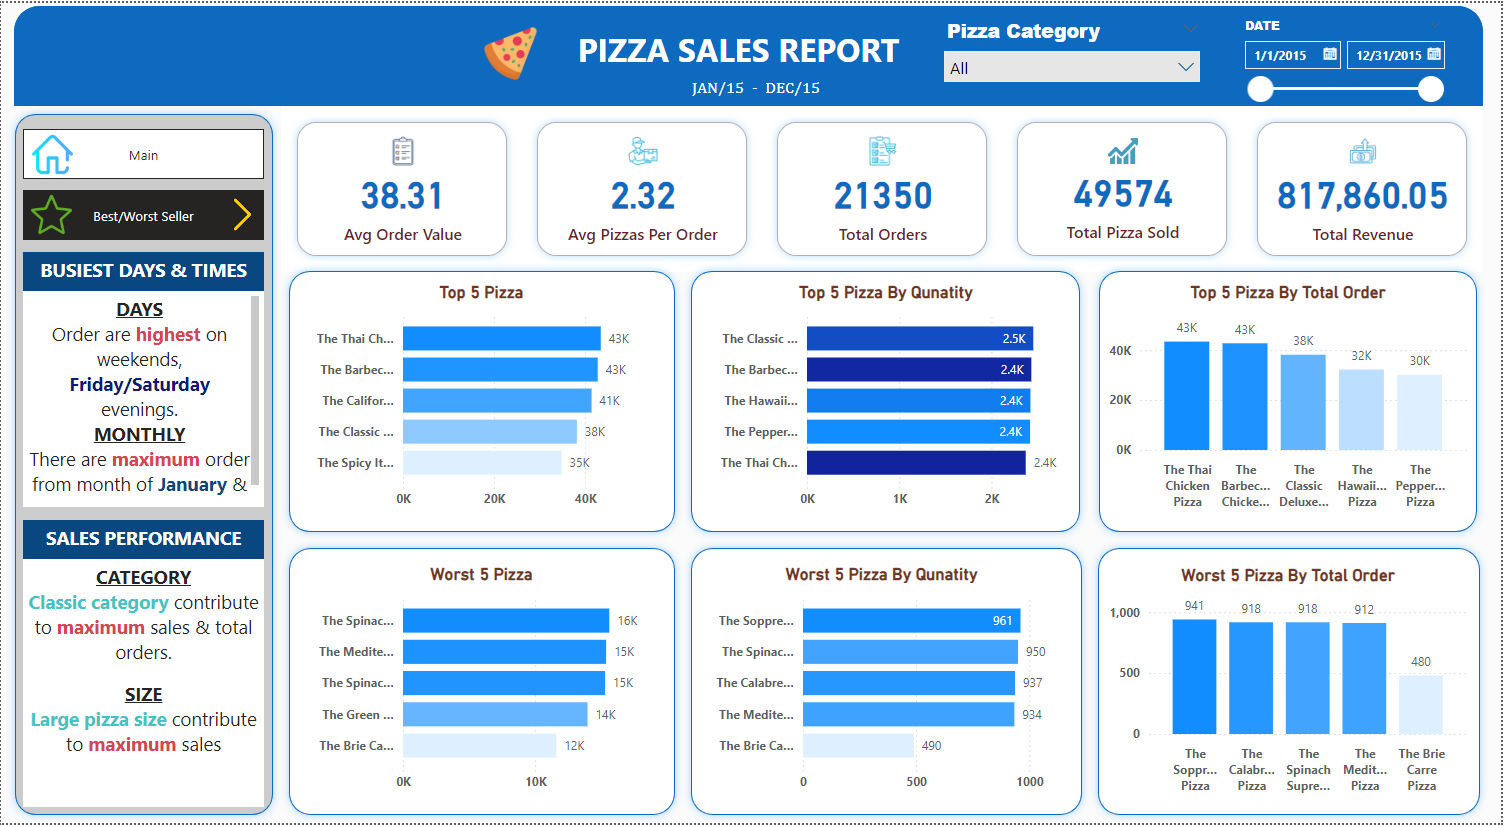

The dashboard page shown, as its layout file describes it:
{"tool":"powerbi","page":{"name":"Best/Worst Seller","canvas":[1500,820],"ordinal":1},"visuals":[{"type":"cardVisual","fields":{"Data":["pizza_sales.Avg Order Value","pizza_sales.Avg Pizzas Per Order","pizza_sales.Total Orders","pizza_sales.Total Pizza Sold","pizza_sales.Total Revenue"]},"box":[280,103.3,1202.2,165.6],"z":0},{"type":"shape","box":[13.3,3.3,1468.9,100],"z":1000},{"type":"textbox","box":[552.2,18.9,371.1,56.7],"z":2000},{"type":"textbox","box":[671.1,70,167.8,30],"z":3000},{"type":"image","box":[465.6,17.8,86.7,65.6],"z":4000},{"type":"shape","box":[280,536.7,402.2,283.3],"z":9000},{"type":"shape","box":[682.2,536.7,406.7,283.3],"z":10000},{"type":"shape","box":[1088.9,536.7,397.8,283.3],"z":11000},{"type":"shape","box":[5.6,103.3,274.4,716.7],"z":15000},{"type":"textbox","box":[22.2,248.9,241.1,38.9],"z":16000},{"type":"textbox","box":[22.2,287.8,241.1,216.7],"z":17000},{"type":"textbox","box":[22.2,516.7,241.1,38.9],"z":18000},{"type":"textbox","box":[22.2,555.6,241.1,248.9],"z":19000},{"type":"slicer","fields":{"Values":["pizza_sales.pizza_category"]},"box":[933.3,8.9,275.6,76.7],"z":20000},{"type":"slicer","fields":{"Values":["pizza_sales.order_date"]},"box":[1231.1,8.9,220,94.4],"z":21000},{"type":"shape","box":[280,260,402.2,276.7],"z":21001},{"type":"shape","box":[1090,260,394.4,276.7],"z":21003},{"type":"shape","box":[682.2,260,404.4,276.7],"z":21004},{"type":"barChart","title":"Top 5 Pizza","fields":{"Category":["pizza_sales.pizza_name"],"Y":["pizza_sales.Total Revenue"]},"box":[296.7,278.9,367.8,235.6],"z":21005},{"type":"barChart","title":"Worst 5 Pizza","fields":{"Category":["pizza_sales.pizza_name"],"Y":["pizza_sales.Total Revenue"]},"box":[296.7,561.1,367.8,235.6],"z":21006},{"type":"barChart","title":"Top 5 Pizza By Qunatity","fields":{"Category":["pizza_sales.pizza_name"],"Y":["Sum(pizza_sales.quantity)"]},"box":[701.1,278.9,367.8,235.6],"z":21007},{"type":"pageNavigator","box":[22.2,125.6,241.1,50],"z":21008},{"type":"pageNavigator","box":[22.2,186.7,241.1,50],"z":21009},{"type":"image","box":[220,185.6,43.3,51.1],"z":21010},{"type":"image","box":[22.2,185.6,56.7,51.1],"z":21011},{"type":"image","box":[24.4,125.6,54.4,51.1],"z":21012},{"type":"clusteredColumnChart","title":"Worst 5 Pizza By Total Order","fields":{"Category":["pizza_sales.pizza_name"],"Y":["pizza_sales.Total Orders"]},"box":[1103.3,562.2,367.8,235.6],"z":21013},{"type":"barChart","title":"Worst 5 Pizza By Qunatity","fields":{"Category":["pizza_sales.pizza_name"],"Y":["Sum(pizza_sales.quantity)"]},"box":[696.7,561.1,367.8,235.6],"z":21014},{"type":"clusteredColumnChart","title":"Top 5 Pizza By Total Order","fields":{"Category":["pizza_sales.pizza_name"],"Y":["pizza_sales.Total Revenue"]},"box":[1103.3,278.9,367.8,235.6],"z":21015}]}

Visuals, with their boxes in screenshot pixels (x1, y1, x2, y2), scaled from the page's 1500x820 canvas onto the 1504x826 screenshot:
cardVisual - pizza_sales.Avg Order Value x pizza_sales.Avg Pizzas Per Order: Rect(281, 104, 1486, 271)
shape: Rect(13, 3, 1486, 104)
textbox: Rect(554, 19, 926, 76)
textbox: Rect(673, 71, 841, 101)
image: Rect(467, 18, 554, 84)
shape: Rect(281, 541, 684, 825)
shape: Rect(684, 541, 1092, 825)
shape: Rect(1092, 541, 1491, 825)
shape: Rect(6, 104, 281, 825)
textbox: Rect(22, 251, 264, 290)
textbox: Rect(22, 290, 264, 508)
textbox: Rect(22, 520, 264, 560)
textbox: Rect(22, 560, 264, 810)
slicer - pizza_sales.pizza_category: Rect(936, 9, 1212, 86)
slicer - pizza_sales.order_date: Rect(1234, 9, 1455, 104)
shape: Rect(281, 262, 684, 541)
shape: Rect(1093, 262, 1488, 541)
shape: Rect(684, 262, 1089, 541)
"Top 5 Pizza" barChart: Rect(297, 281, 666, 518)
"Worst 5 Pizza" barChart: Rect(297, 565, 666, 803)
"Top 5 Pizza By Qunatity" barChart: Rect(703, 281, 1072, 518)
pageNavigator: Rect(22, 127, 264, 177)
pageNavigator: Rect(22, 188, 264, 238)
image: Rect(221, 187, 264, 238)
image: Rect(22, 187, 79, 238)
image: Rect(24, 127, 79, 178)
"Worst 5 Pizza By Total Order" clusteredColumnChart: Rect(1106, 566, 1475, 804)
"Worst 5 Pizza By Qunatity" barChart: Rect(699, 565, 1067, 803)
"Top 5 Pizza By Total Order" clusteredColumnChart: Rect(1106, 281, 1475, 518)
